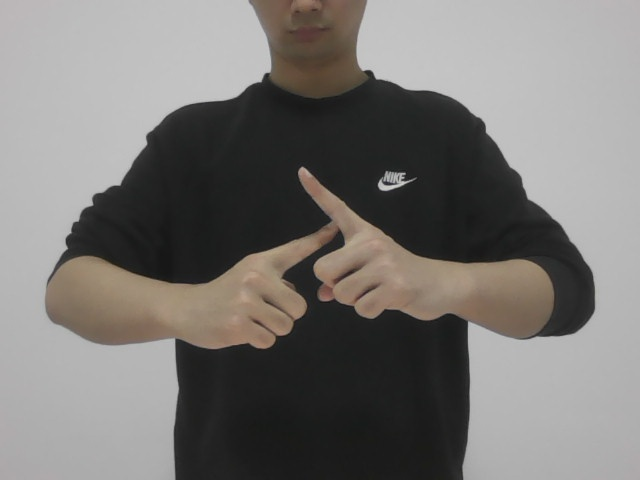peason: (215, 158, 416, 348)
